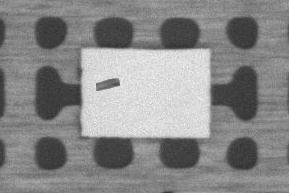DIE_INK: (139, 51, 181, 61)
